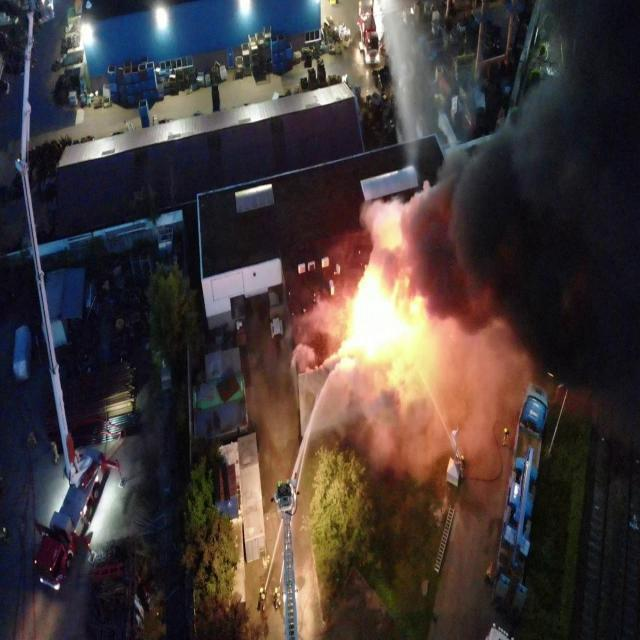Fire: (345, 274, 420, 359)
Smoke: (281, 0, 640, 487)
